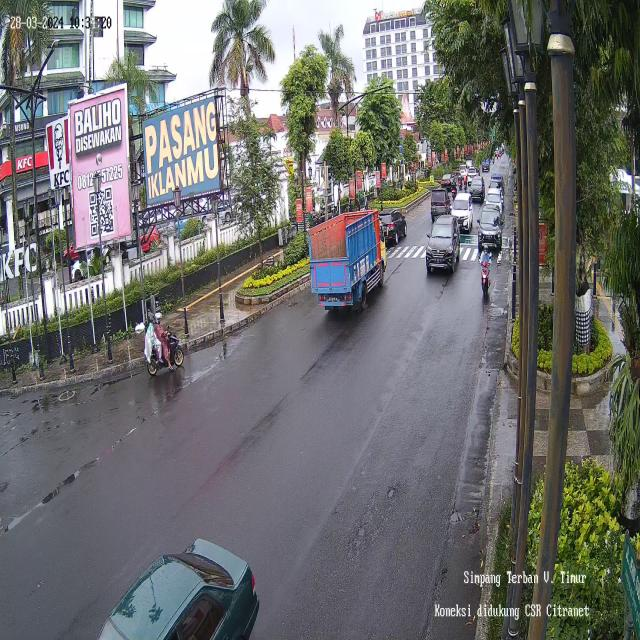car: (89, 538, 257, 640), (426, 214, 459, 274), (451, 190, 475, 235), (479, 204, 503, 248), (378, 209, 407, 244), (431, 188, 451, 221), (484, 187, 503, 217), (469, 174, 484, 203), (488, 170, 504, 193), (441, 173, 454, 189)
motorcycle: (144, 311, 183, 378), (480, 244, 491, 298), (451, 176, 456, 201), (462, 173, 468, 190), (458, 172, 463, 190)
truck: (308, 207, 386, 312)
